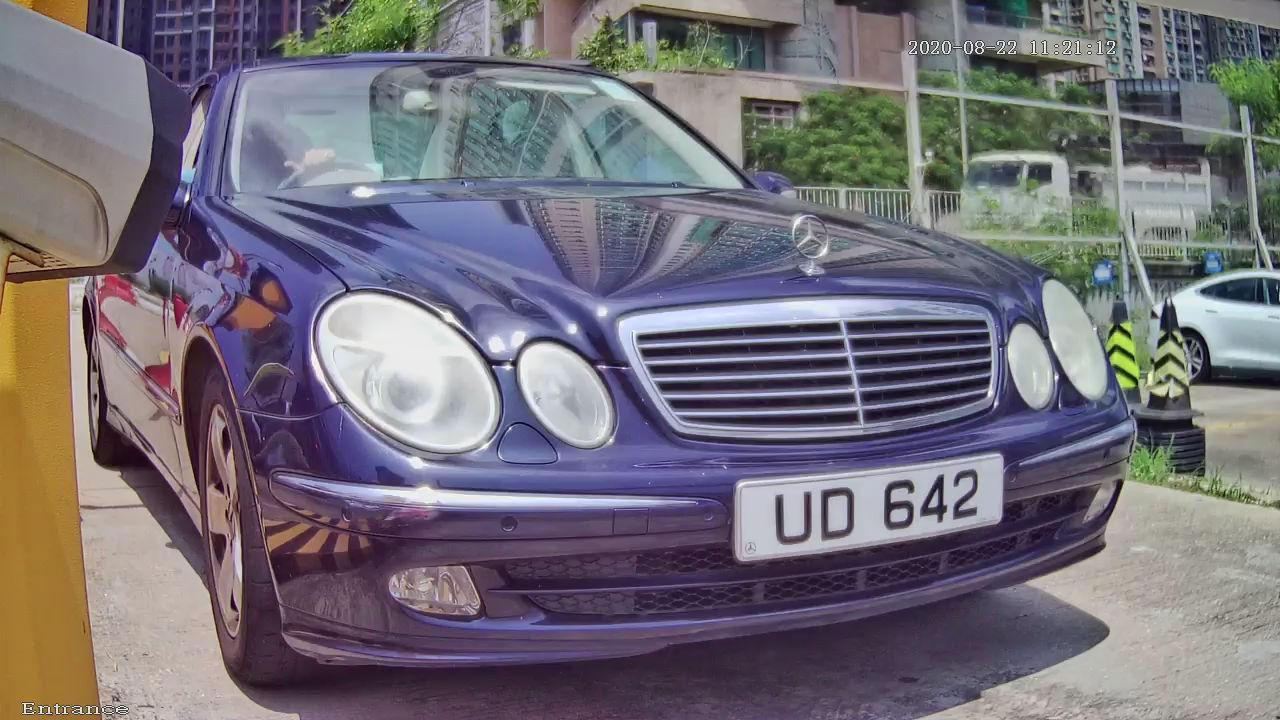Car: (52, 1, 1195, 720)
License Plate: (698, 425, 1034, 576)
